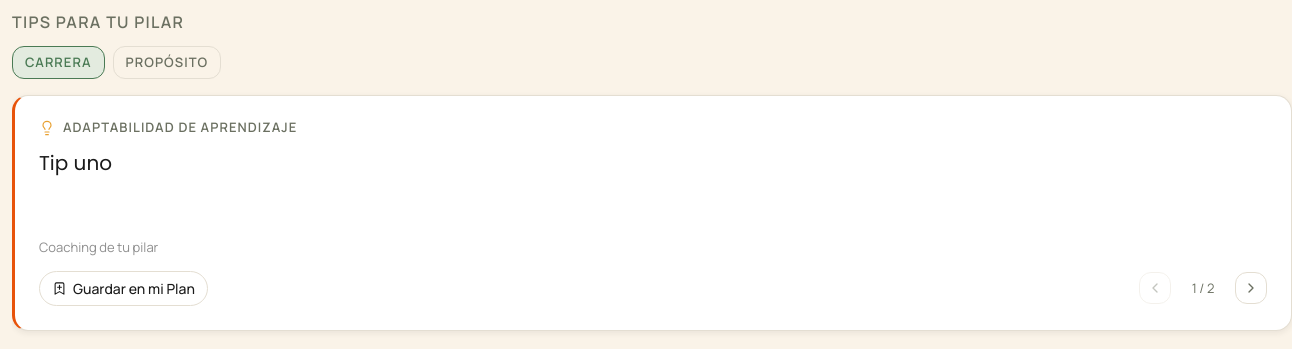
Test: PillarTipsViewer › cambia de dimensión con los tabs y ofrece guardar el tip
The image size is (1292, 349).
Check: the text "Tip uno" is shown, box [39,149,112,177]
Click the tab "Propósito". click: (167, 62)
box: [113,46,221,79]
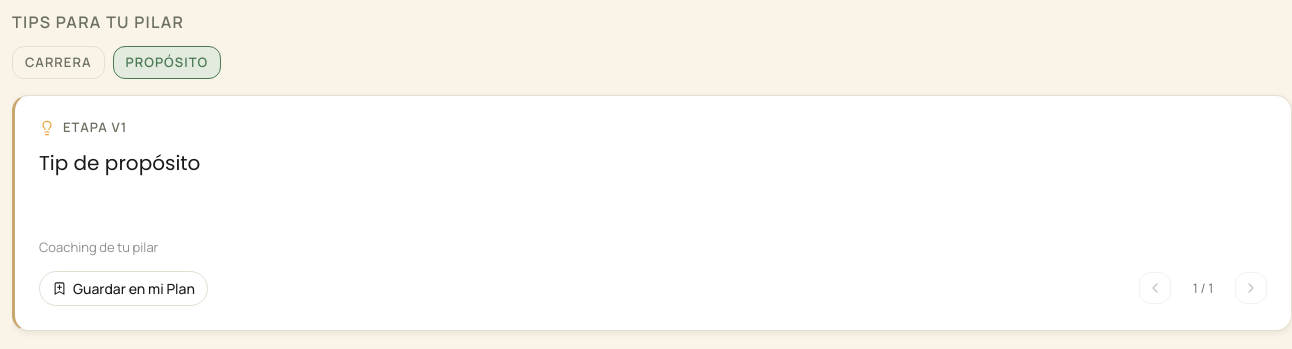
Check: the button "Guardar en mi Plan" is shown, box [39,271,208,306]
Check: the text "Tip de propósito" is shown, box [39,149,200,177]
Check: the text "Etapa V1" is shown, box [63,120,127,135]
